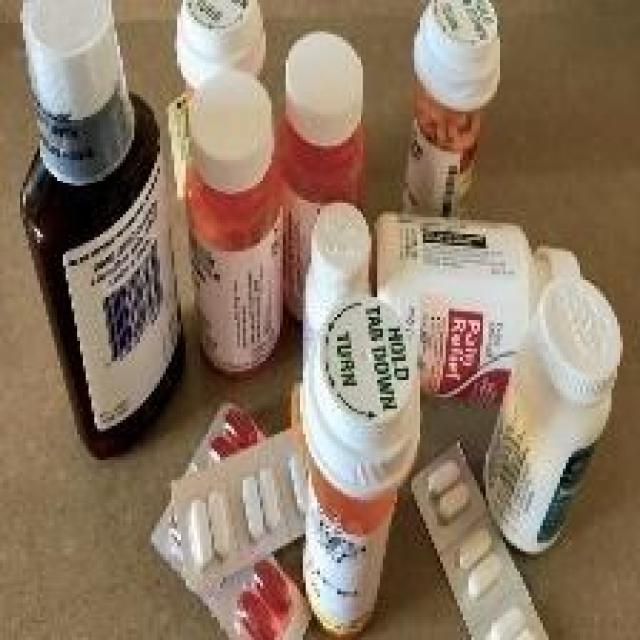Medicine: (104, 203, 629, 640), (12, 0, 172, 430), (168, 0, 285, 362), (392, 0, 530, 216), (260, 4, 382, 238)
